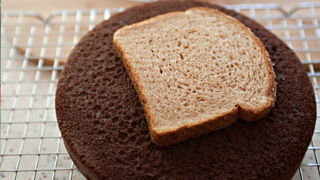slice of bread: (111, 9, 288, 141)
